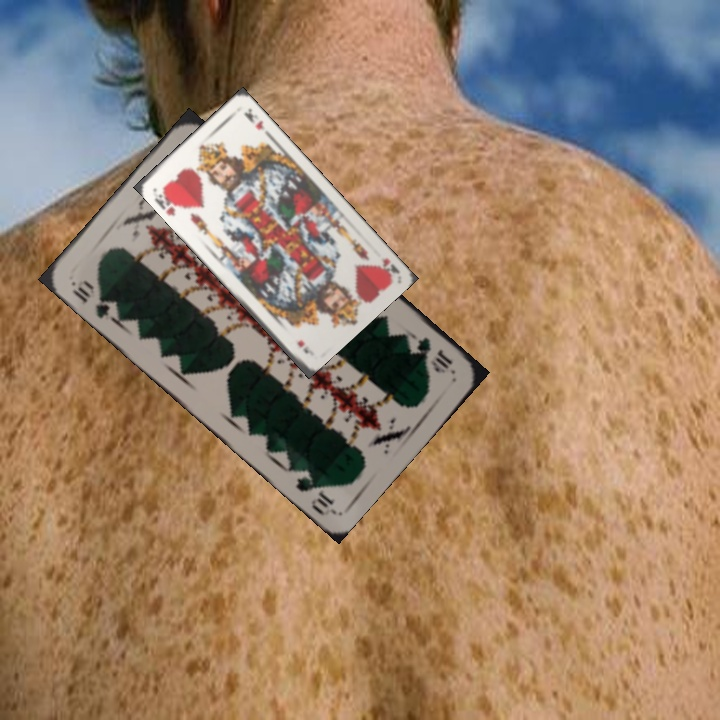G10: (67, 275, 121, 321), (412, 333, 455, 376)
HK: (150, 184, 184, 218), (375, 254, 401, 281)
